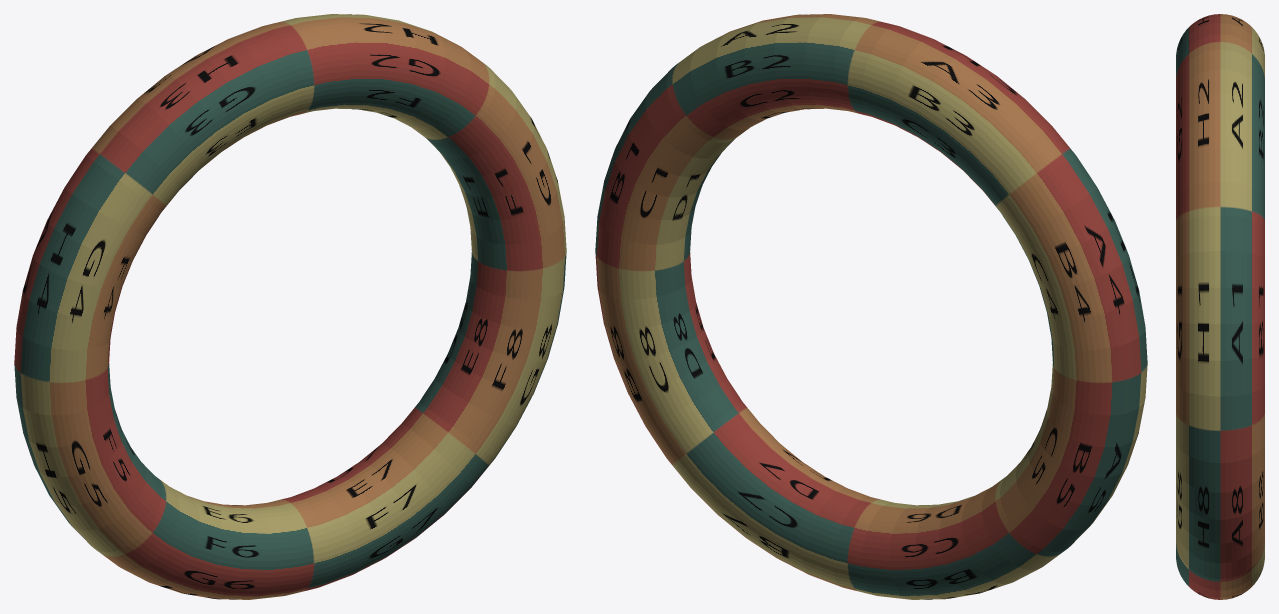
File: texture_torus_R24_r10.glb
3 views of the same model, side by side, from view 1: azimuth 30°, elevation 25°; view 2: azimuth 150°, elevation 25°; view 3: azimuth 270°, elevation 25° (orthographic). The views are drawn at different scales.
Visible parts, largest first — view 1: world; view 2: world; view 3: world.
Boxes of the visible parts, <box> form: world: <box>14,14,566,599</box>; world: <box>595,14,1147,599</box>; world: <box>1176,14,1264,599</box>.
Bounding box in the file's own units: 30.67 × 30.61 × 4.66.
1 material, 1 textured.
